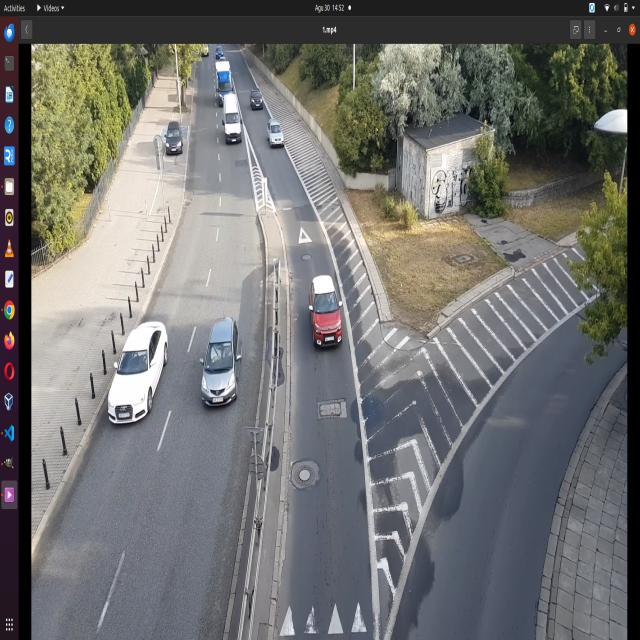person_with_seatbelt: (212, 343, 223, 364), (222, 344, 232, 363)
